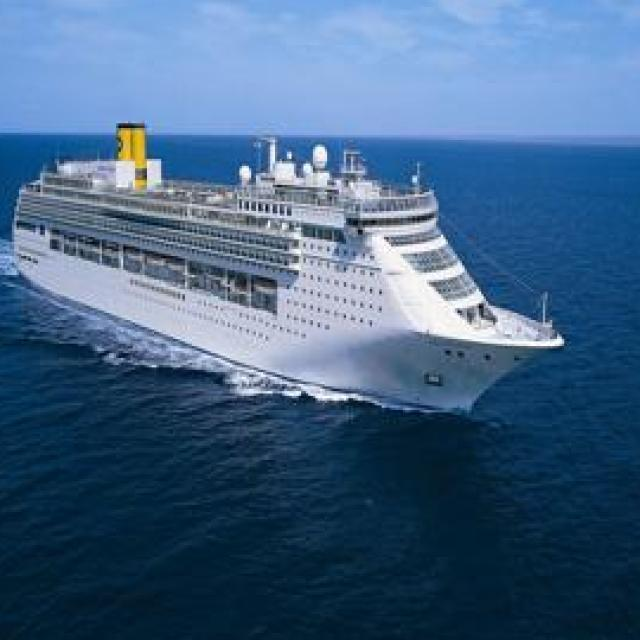passenger ship: (2, 102, 565, 436)
